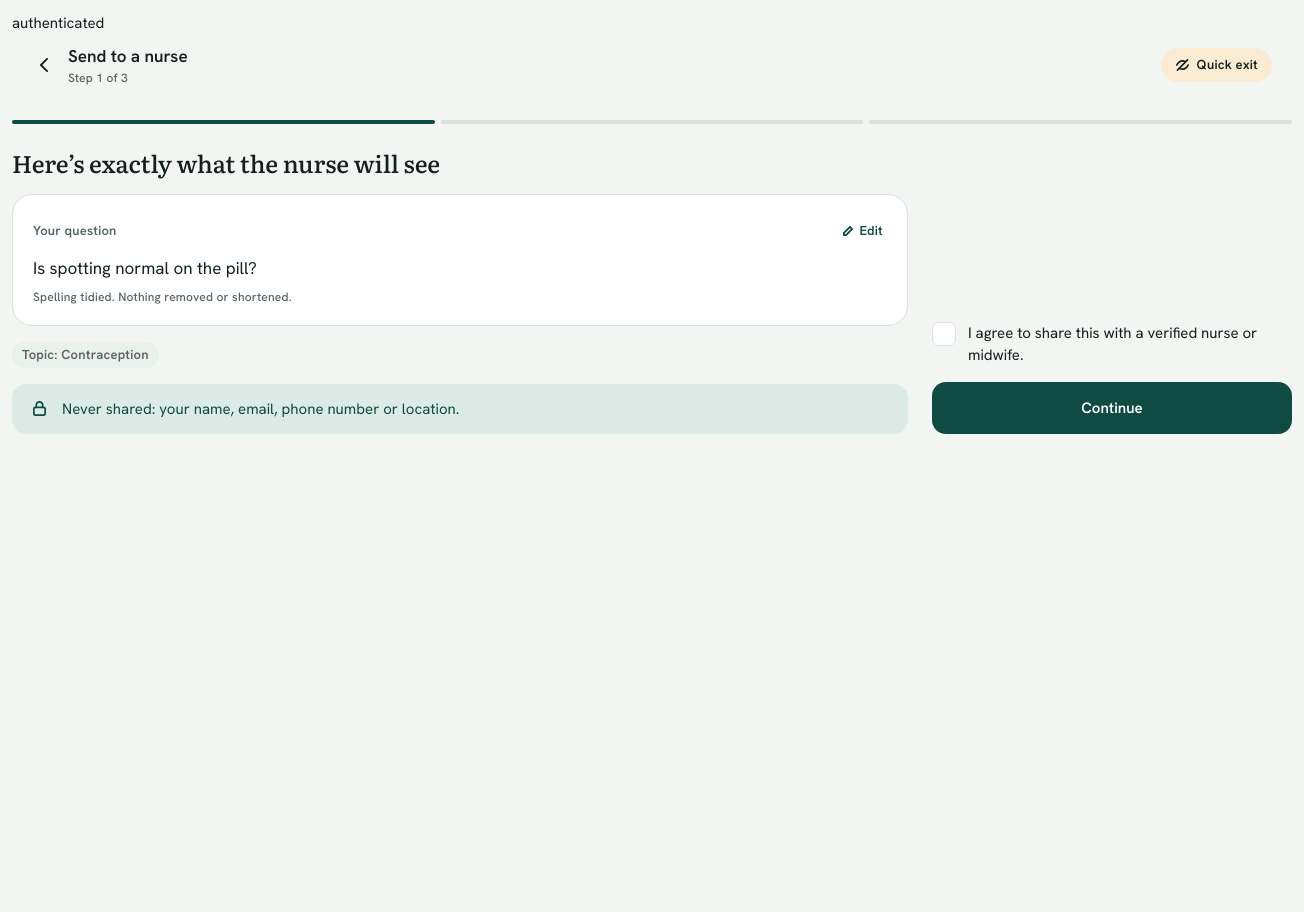
Test: W07 Consent: edit the question › Edit makes the question editable; Save drafts it again and asks for consent again
Later steps or results of the test are not shown.
Expected: the text "authenticated" is shown, [12,13,104,33]
Expected: the heading "Here’s exactly what the nurse will see" is shown, [12,145,440,180]
Click the checkbox labelled "I agree to share this with a verified nurse or midwife.".
click(1112, 344)  # box [932,322,1292,366]
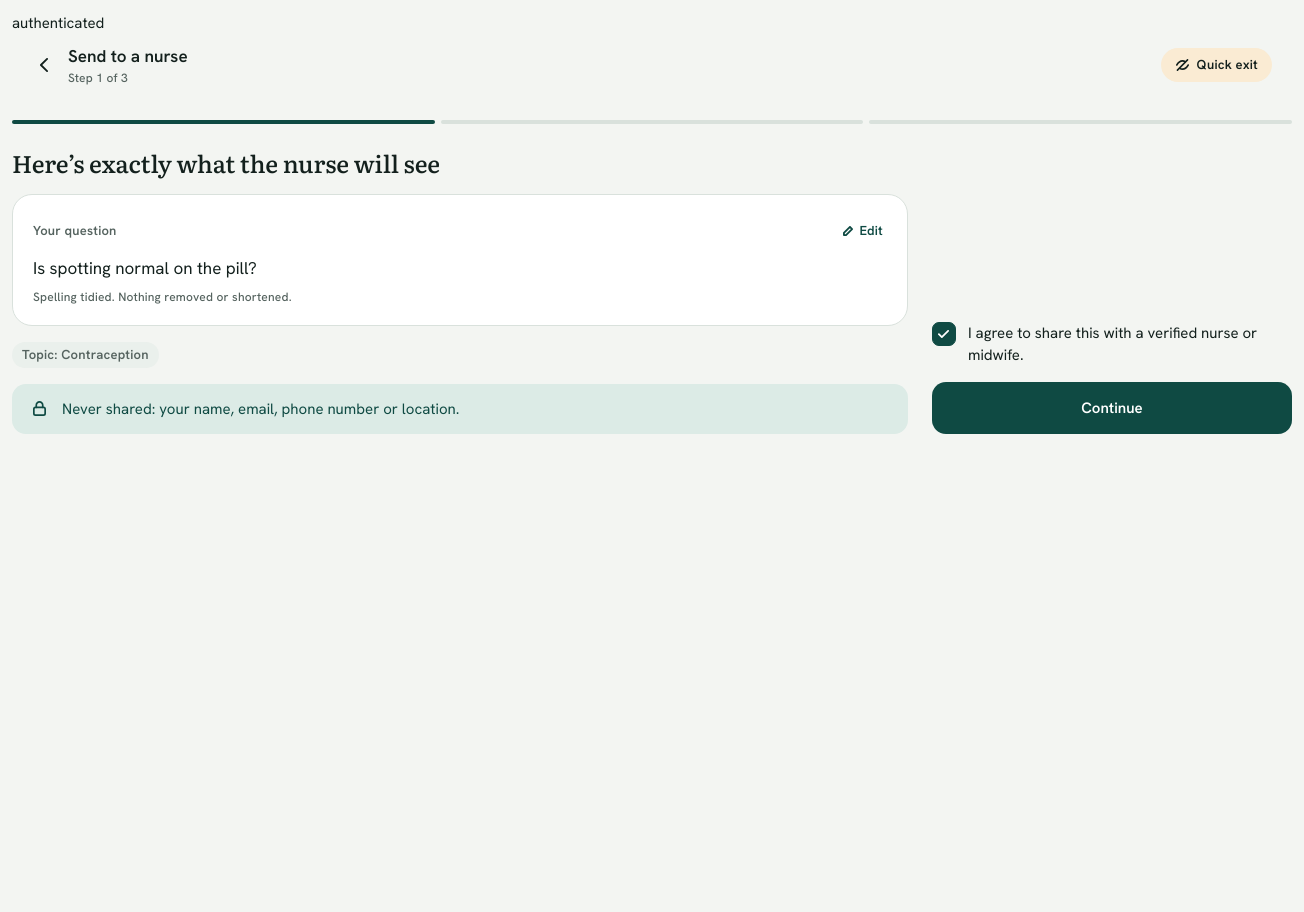
Click the button "Edit".
click(862, 231)  # box [837,215,887,247]
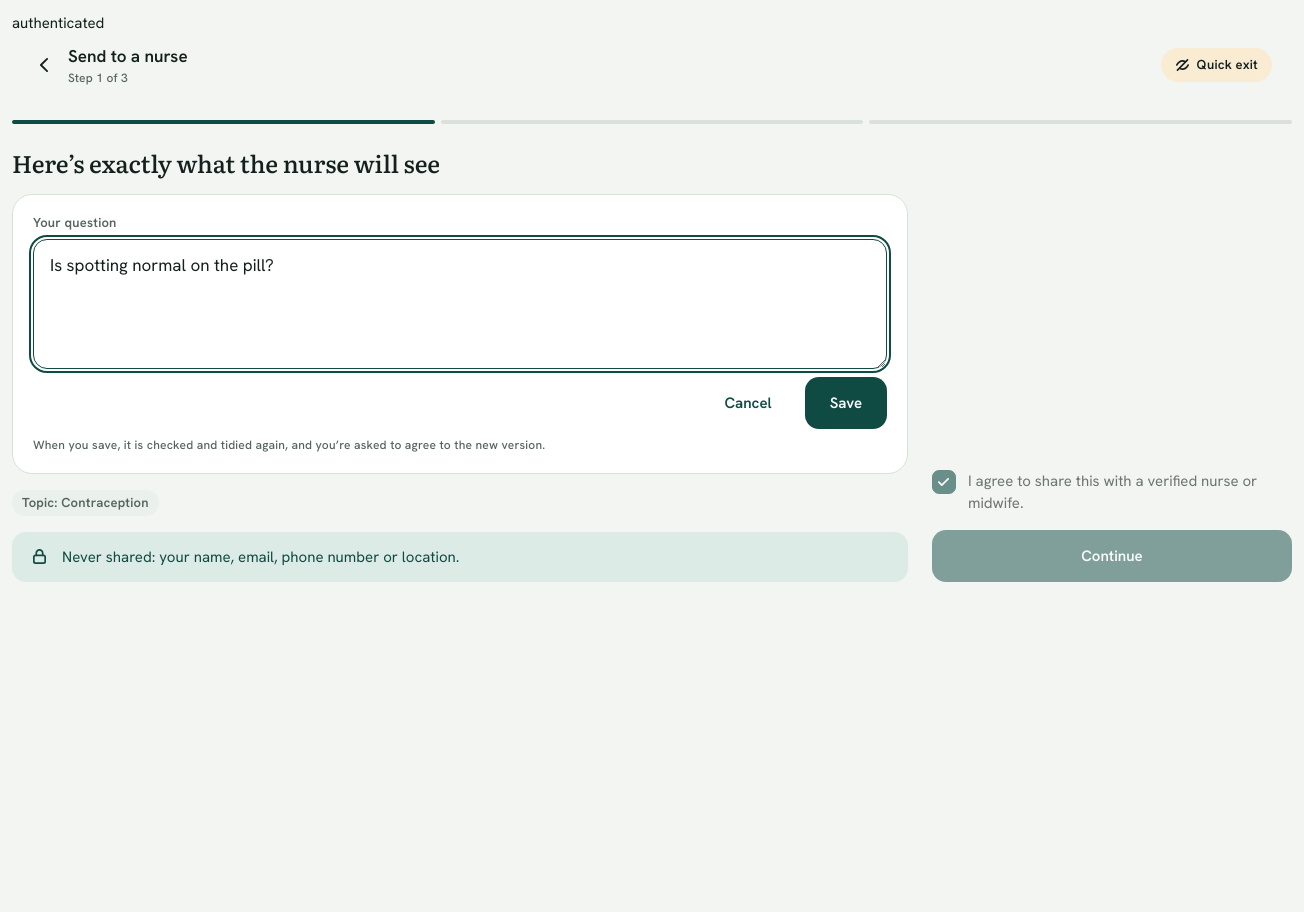
Result: the button "Continue" is disabled at [932,530,1292,582]
Replace the text in the text box named "Edit your question" with "I started the pill 2 weeks ago and I am spotting. Is that normal?" at coordinates (460, 304), box [33,239,887,369]
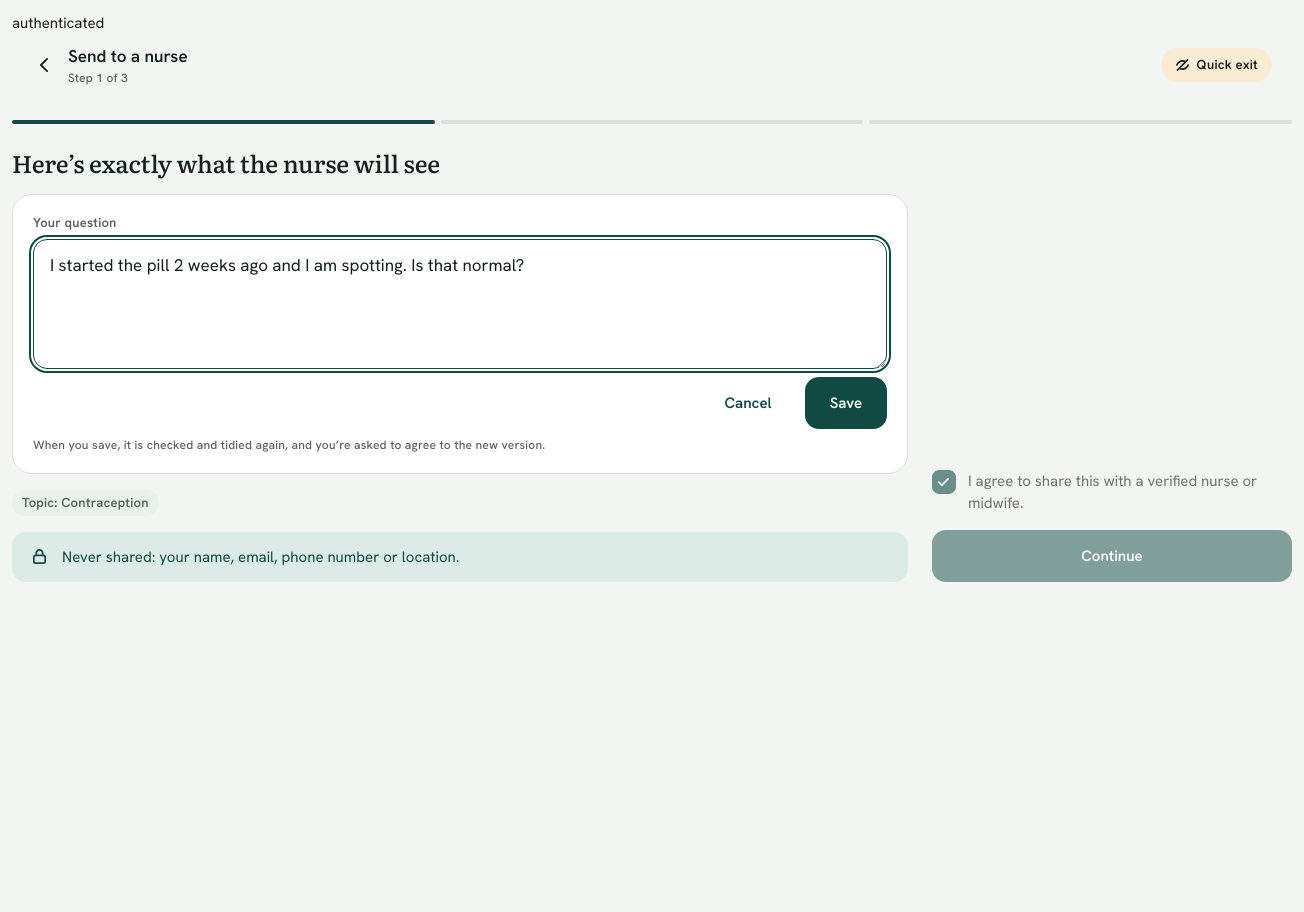
Click the button "Save".
click(846, 403)  # box [805,377,887,429]
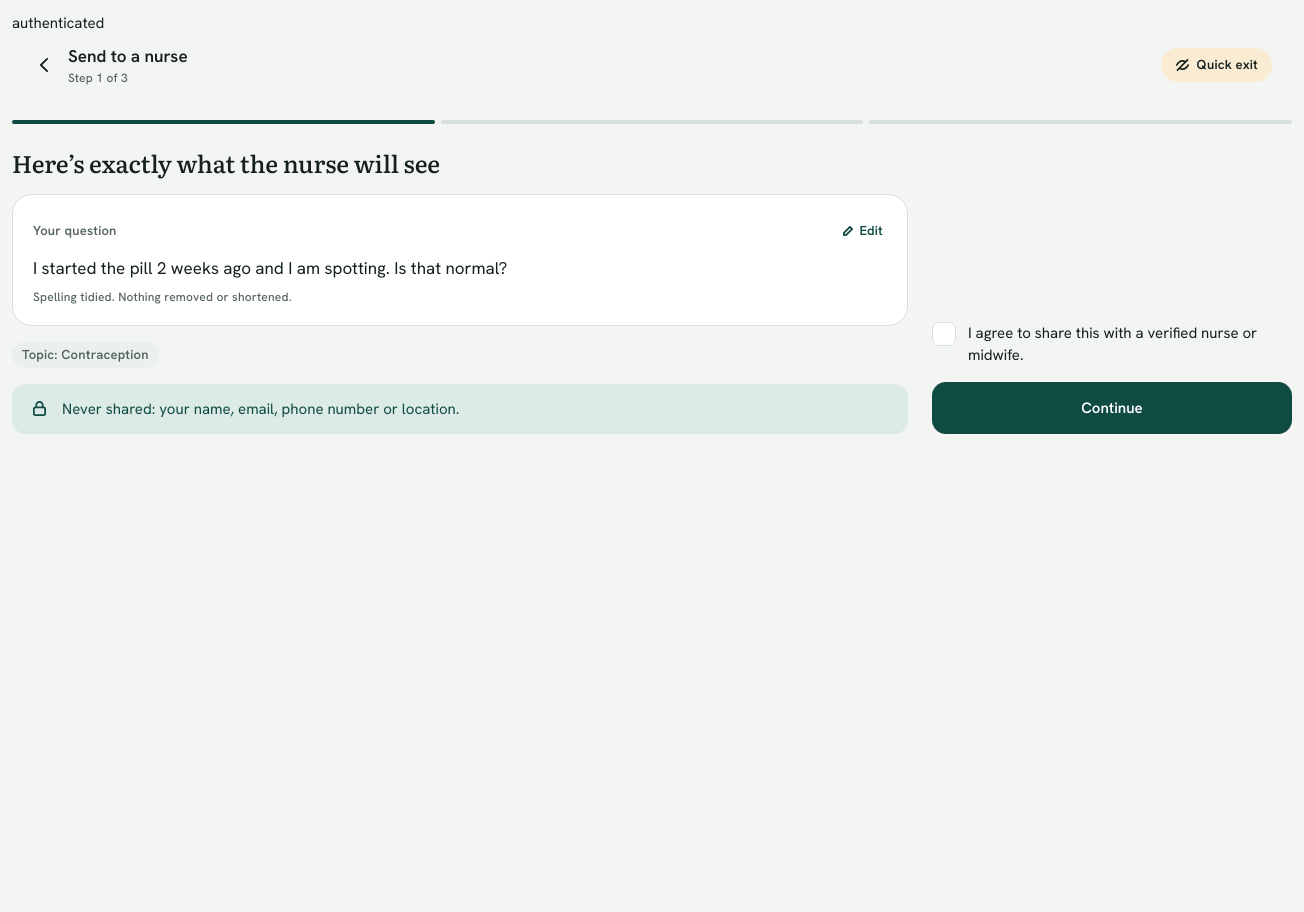
Result: the checkbox labelled "I agree to share this with a verified nurse or midwife." is not checked
Result: the text "I started the pill 2 weeks ago" is shown at [33,257,507,279]
# The edited question is what gets sent.
Click the checkbox labelled "I agree to share this with a verified nurse or midwife.".
click(1112, 344)  # box [932,322,1292,366]
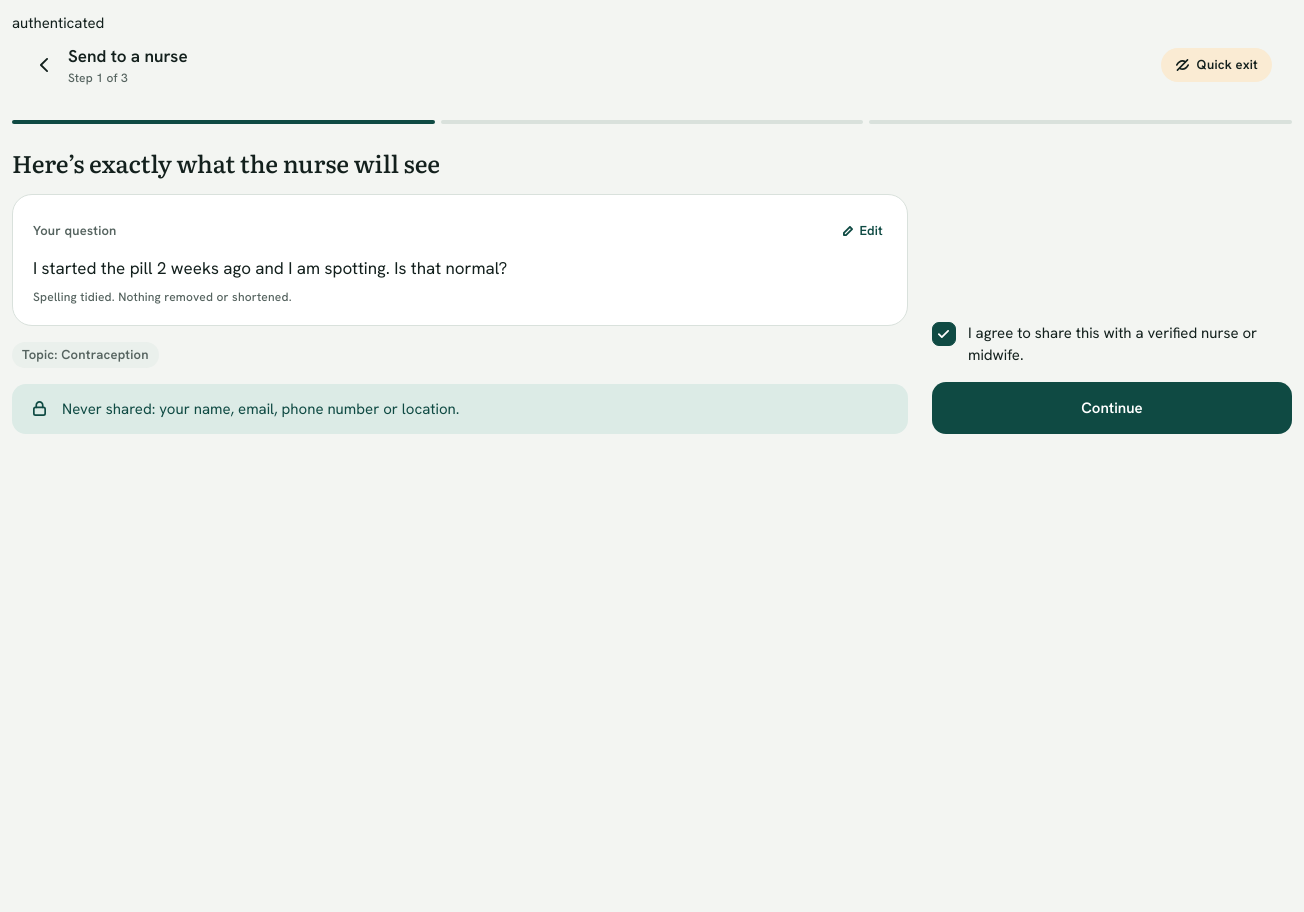
Click the button "Continue".
click(1112, 408)  # box [932,382,1292,434]
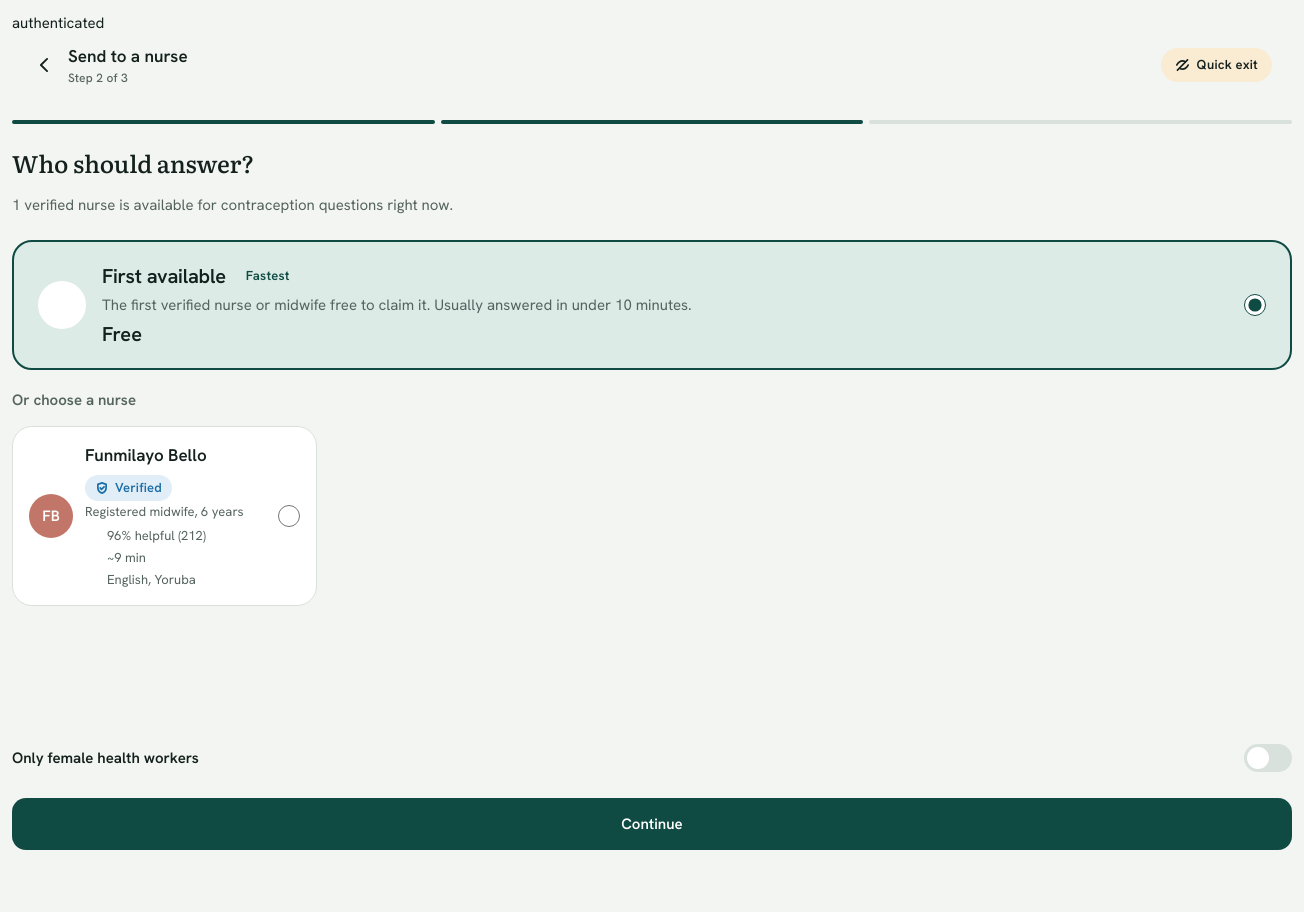
Result: the button "Continue" is enabled at [12,798,1292,850]
Result: the heading "Who should answer?" is shown at [12,145,254,180]
